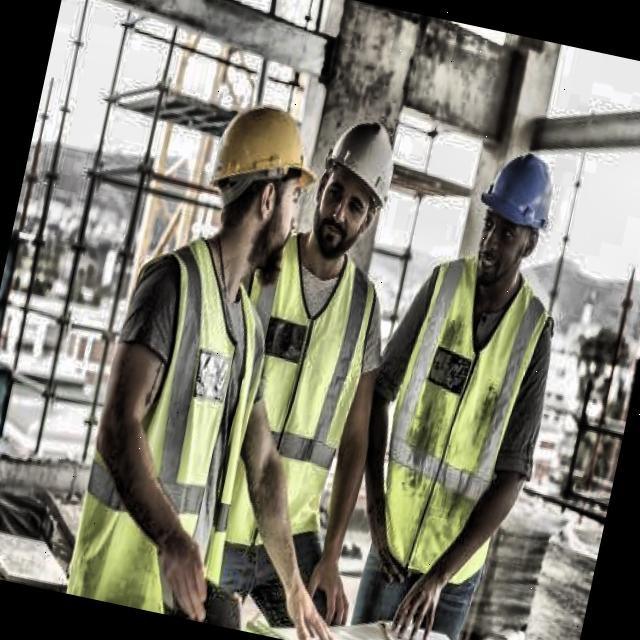helmet: (188, 78, 326, 271), (284, 95, 404, 280), (458, 137, 568, 298)
